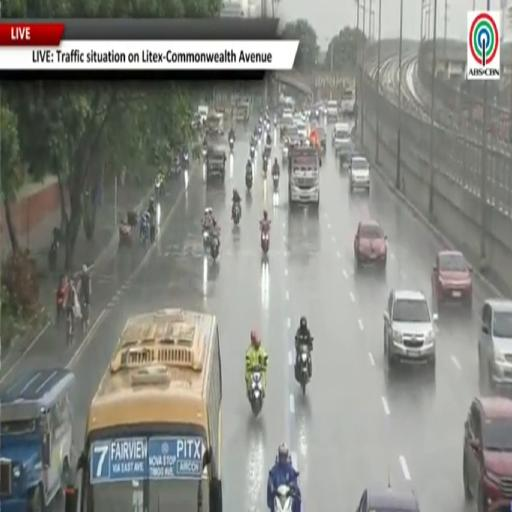bus: (75, 309, 222, 511)
car: (463, 396, 511, 511), (384, 291, 437, 372), (478, 299, 511, 392), (432, 251, 472, 311), (354, 220, 386, 269), (357, 487, 419, 511), (333, 123, 353, 167), (349, 156, 369, 193), (279, 117, 294, 141), (316, 126, 326, 154), (326, 100, 338, 123), (295, 120, 307, 139)
motorcycle: (296, 345, 311, 394), (249, 368, 263, 417), (274, 485, 294, 511), (119, 223, 133, 247), (48, 240, 58, 271), (260, 230, 270, 255), (140, 220, 149, 246), (210, 236, 219, 261), (232, 202, 241, 225), (155, 175, 162, 200), (182, 151, 189, 170), (203, 230, 209, 251), (246, 173, 253, 191), (263, 155, 268, 178), (282, 144, 288, 163), (273, 174, 279, 193), (264, 142, 271, 157), (250, 146, 255, 162), (229, 138, 234, 152), (265, 120, 270, 133), (258, 125, 262, 139), (203, 147, 207, 158)
truck: (0, 368, 74, 511), (289, 147, 321, 206), (206, 143, 226, 183), (340, 88, 355, 117), (198, 105, 209, 123)
